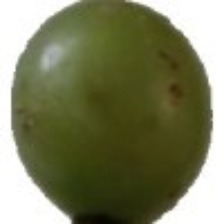grapes: (30, 25, 173, 197)
